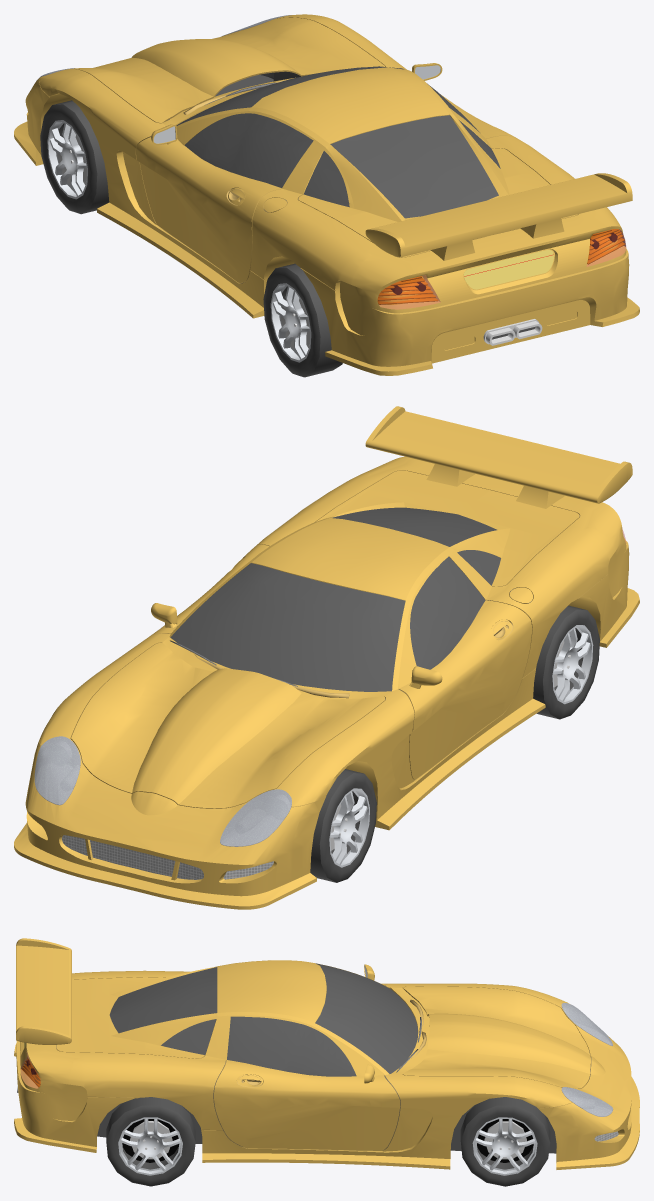
3 renders of one model, top to bottom at view 1: azimuth 30°, elevation 25°; view 2: azimuth 150°, elevation 25°; view 3: azimuth 270°, elevation 25°, orthographic. The views are drawn at different scales.
Visible parts, largest first — view 1: SketchUp_ID704, SketchUp_ID729, ÐšÐ¾Ð¼Ð¿Ð¾Ð½ÐµÐ½Ñ‚_8_ID625, SketchUp_ID741, wheel_lb_ID473, wheel_lb_ID473_2, SketchUp_ID747, wheel_lb_ID483, wheel_lb_ID483_1, ÐšÐ¾Ð¼Ð¿Ð¾Ð½ÐµÐ½Ñ‚_2_ID133, SketchUp_ID755, SketchUp_ID761 (+6 smaller); view 2: SketchUp_ID704, SketchUp_ID755, ÐšÐ¾Ð¼Ð¿Ð¾Ð½ÐµÐ½Ñ‚_8_ID625, SketchUp_ID741, wheel_lb_ID473_2, wheel_lb_ID473, SketchUp_ID729, ÐšÐ¾Ð¼Ð¿Ð¾Ð½ÐµÐ½Ñ‚_3_ID4, ÐšÐ¾Ð¼Ð¿Ð¾Ð½ÐµÐ½Ñ‚_3_ID4_1, ÐšÐ¾Ð¼Ð¿Ð¾Ð½ÐµÐ½Ñ‚_3_ID239, ÐšÐ¾Ð¼Ð¿Ð¾Ð½ÐµÐ½Ñ‚_3_ID239_1, SketchUp_ID801 (+5 smaller); view 3: SketchUp_ID704, SketchUp_ID755, ÐšÐ¾Ð¼Ð¿Ð¾Ð½ÐµÐ½Ñ‚_8_ID625, SketchUp_ID815, SketchUp_ID729, wheel_lb_ID545, wheel_lb_ID545_2, wheel_lb_ID551_1, wheel_lb_ID551, SketchUp_ID821, SketchUp_ID710, ÐšÐ¾Ð¼Ð¿Ð¾Ð½ÐµÐ½Ñ‚_3_ID239 (+10 smaller).
Part boxes in pixels (bbox=[...]): SketchUp_ID704: bbox=[14, 14, 639, 375]; SketchUp_ID729: bbox=[330, 115, 498, 218]; ÐšÐ¾Ð¼Ð¿Ð¾Ð½ÐµÐ½Ñ‚_8_ID625: bbox=[365, 173, 632, 257]; SketchUp_ID741: bbox=[184, 113, 313, 187]; wheel_lb_ID473: bbox=[263, 263, 342, 377]; wheel_lb_ID473_2: bbox=[40, 100, 109, 214]; SketchUp_ID747: bbox=[463, 250, 553, 289]; wheel_lb_ID483: bbox=[273, 286, 309, 359]; wheel_lb_ID483_1: bbox=[49, 123, 86, 196]; ÐšÐ¾Ð¼Ð¿Ð¾Ð½ÐµÐ½Ñ‚_2_ID133: bbox=[378, 275, 440, 309]; SketchUp_ID755: bbox=[176, 66, 403, 125]; SketchUp_ID761: bbox=[303, 151, 349, 207]; SketchUp_ID704: bbox=[14, 456, 639, 909]; SketchUp_ID755: bbox=[170, 563, 405, 691]; ÐšÐ¾Ð¼Ð¿Ð¾Ð½ÐµÐ½Ñ‚_8_ID625: bbox=[365, 406, 632, 503]; SketchUp_ID741: bbox=[410, 556, 485, 669]; wheel_lb_ID473_2: bbox=[310, 769, 376, 882]; wheel_lb_ID473: bbox=[533, 605, 599, 719]; SketchUp_ID729: bbox=[332, 507, 496, 546]; ÐšÐ¾Ð¼Ð¿Ð¾Ð½ÐµÐ½Ñ‚_3_ID4: bbox=[220, 789, 291, 846]; ÐšÐ¾Ð¼Ð¿Ð¾Ð½ÐµÐ½Ñ‚_3_ID4_1: bbox=[220, 789, 291, 846]; ÐšÐ¾Ð¼Ð¿Ð¾Ð½ÐµÐ½Ñ‚_3_ID239: bbox=[34, 736, 80, 804]; ÐšÐ¾Ð¼Ð¿Ð¾Ð½ÐµÐ½Ñ‚_3_ID239_1: bbox=[34, 736, 80, 804]; SketchUp_ID801: bbox=[62, 835, 203, 879]; SketchUp_ID704: bbox=[14, 960, 639, 1169]; SketchUp_ID755: bbox=[315, 963, 418, 1073]; ÐšÐ¾Ð¼Ð¿Ð¾Ð½ÐµÐ½Ñ‚_8_ID625: bbox=[16, 938, 71, 1044]; SketchUp_ID815: bbox=[227, 1016, 356, 1076]; SketchUp_ID729: bbox=[109, 967, 217, 1033]; wheel_lb_ID545: bbox=[106, 1097, 195, 1186]; wheel_lb_ID545_2: bbox=[460, 1097, 550, 1186]; wheel_lb_ID551_1: bbox=[475, 1119, 535, 1170]; wheel_lb_ID551: bbox=[120, 1118, 180, 1170]; SketchUp_ID821: bbox=[161, 1019, 216, 1055]; SketchUp_ID710: bbox=[97, 1103, 556, 1153]; ÐšÐ¾Ð¼Ð¿Ð¾Ð½ÐµÐ½Ñ‚_3_ID239: bbox=[561, 1087, 612, 1116].
Size of the model in its own units: 0.3568 by 0.2192 by 0.8328.
Materials: 32 (2 with a texture image).
